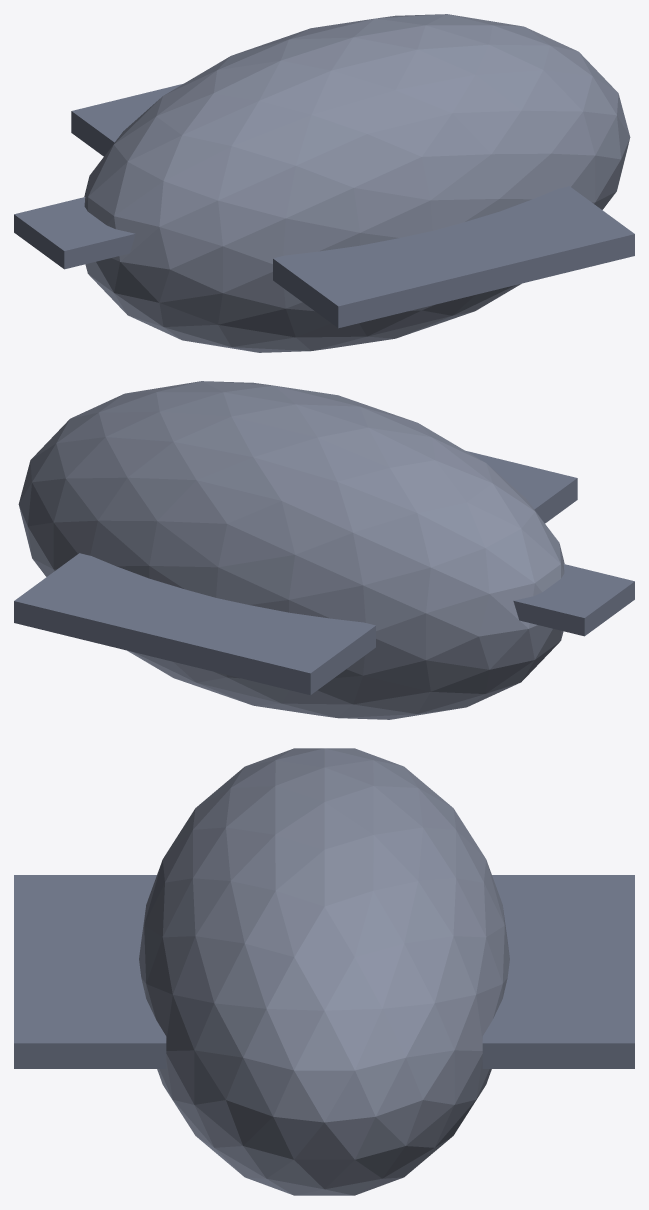
Rendered from bird.glb.
3 renders of one model, top to bottom at view 1: azimuth 30°, elevation 25°; view 2: azimuth 150°, elevation 25°; view 3: azimuth 270°, elevation 25°, orthographic. The views are drawn at different scales.
Parts seen in each view (by area): view 1: world; view 2: world; view 3: world.
Part boxes in pixels (bbox=[...]): world: bbox=[14, 14, 634, 352]; world: bbox=[14, 381, 634, 719]; world: bbox=[14, 748, 634, 1195].
Size of the model in its own units: 0.332 by 0.16 by 0.265.
